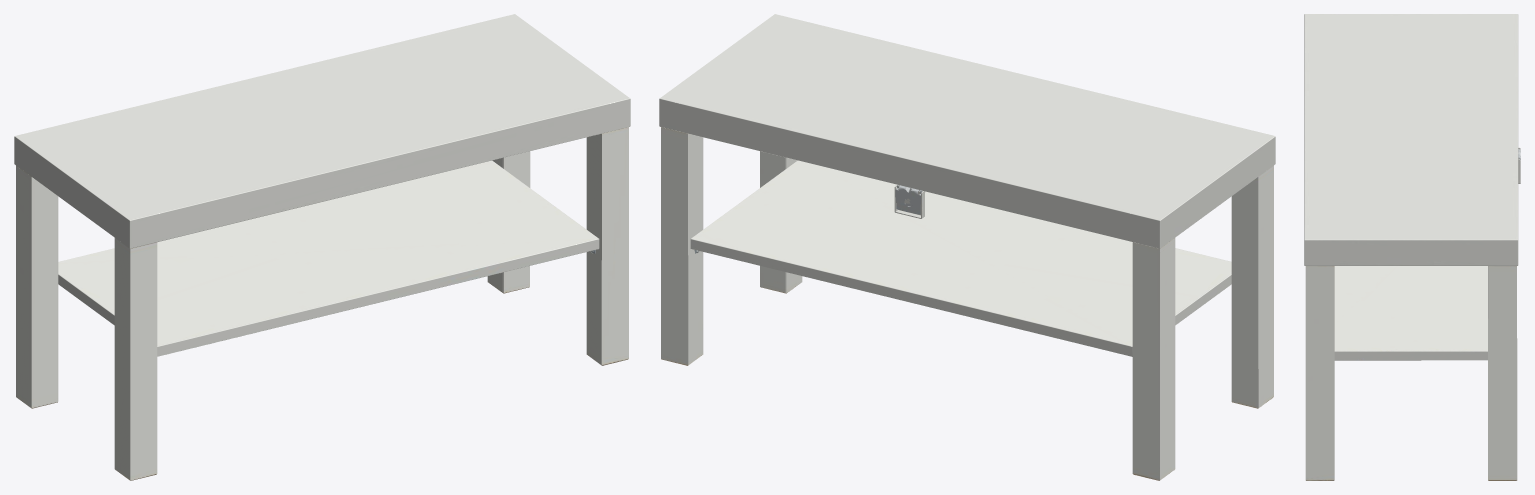
Rendered from tv_bench_lack_00625521.glb.
3 views of the same model, side by side, from view 1: azimuth 30°, elevation 25°; view 2: azimuth 150°, elevation 25°; view 3: azimuth 270°, elevation 25° (orthographic). The views are drawn at different scales.
Parts seen in each view (by area): view 1: ASY_ART_00625521_S01_NV01; view 2: ASY_ART_00625521_S01_NV01; view 3: ASY_ART_00625521_S01_NV01.
Part boxes in pixels (box(x1,y1,x2,y2)): ASY_ART_00625521_S01_NV01: box(14, 14, 630, 480); ASY_ART_00625521_S01_NV01: box(659, 14, 1275, 480); ASY_ART_00625521_S01_NV01: box(1304, 14, 1520, 480).
Bounding box in the file's own units: 0.9 × 0.449 × 0.364.
Materials: 1 (1 with a texture image).
